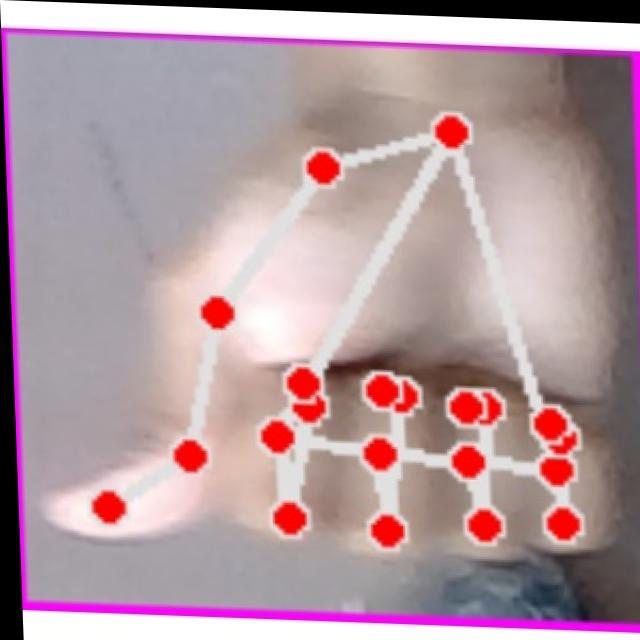A: (25, 67, 628, 608)
